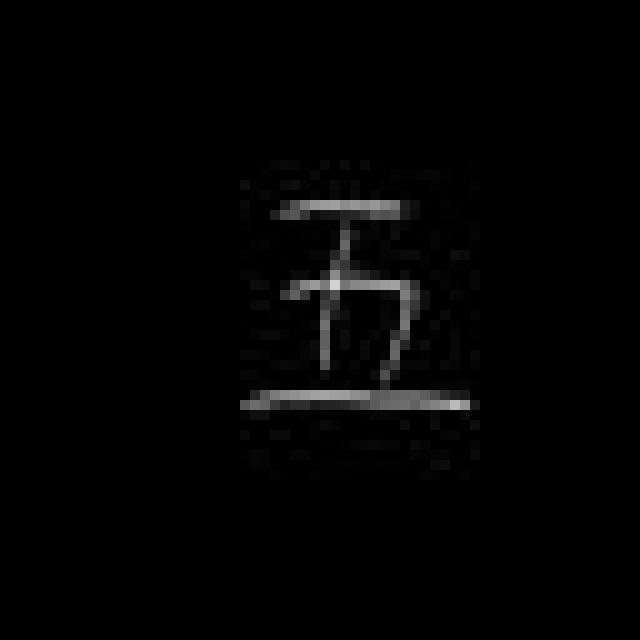5 -five-: (233, 184, 478, 427)
